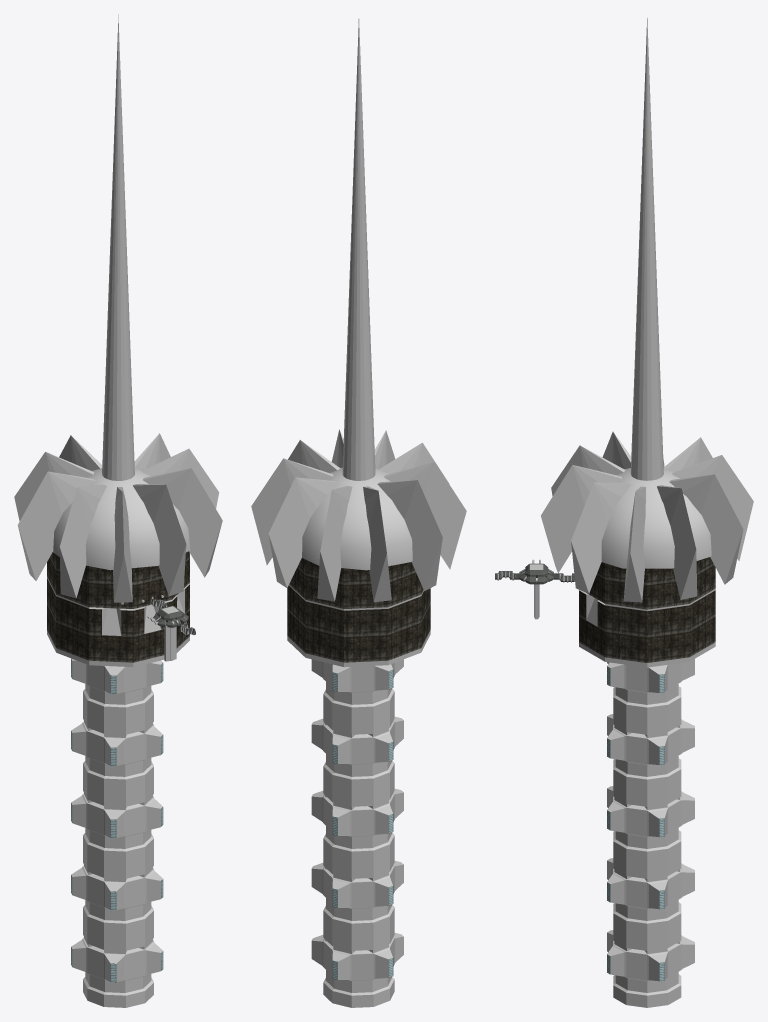
The picture shows the model from 3 angles, left to right: view 1: azimuth 30°, elevation 25°; view 2: azimuth 150°, elevation 25°; view 3: azimuth 270°, elevation 25°; orthographic projection.
Parts seen in each view (by area): view 1: -Clusters; view 2: -Clusters; view 3: -Clusters.
Part boxes in pixels (bbox=[...]): -Clusters: bbox=[14, 14, 222, 1007]; -Clusters: bbox=[251, 19, 466, 1007]; -Clusters: bbox=[495, 18, 753, 1007].
Size of the model in its own units: 12801 by 15539 by 64859.
